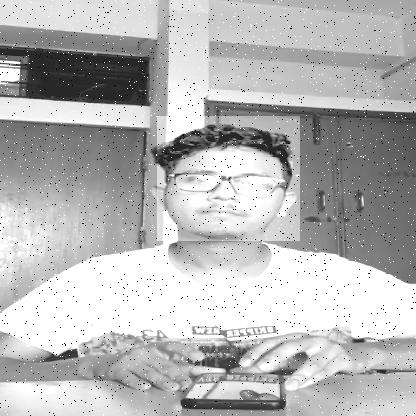Normal: (157, 116, 300, 241)
